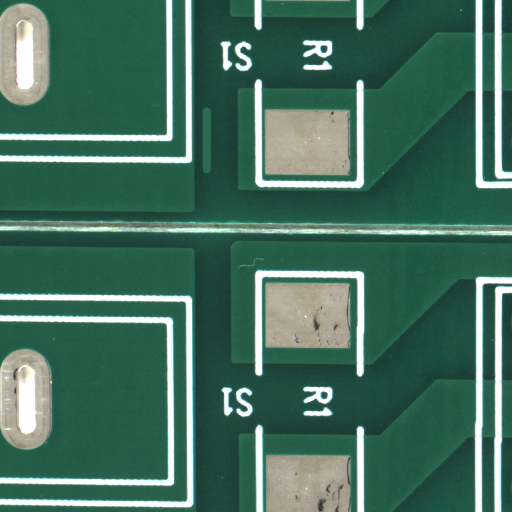Spurious_copper: (207, 139, 223, 209)
